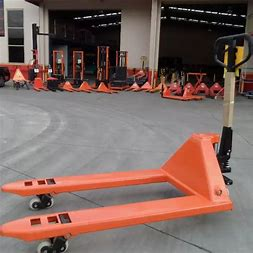Pallet Jack: (1, 32, 253, 252)
